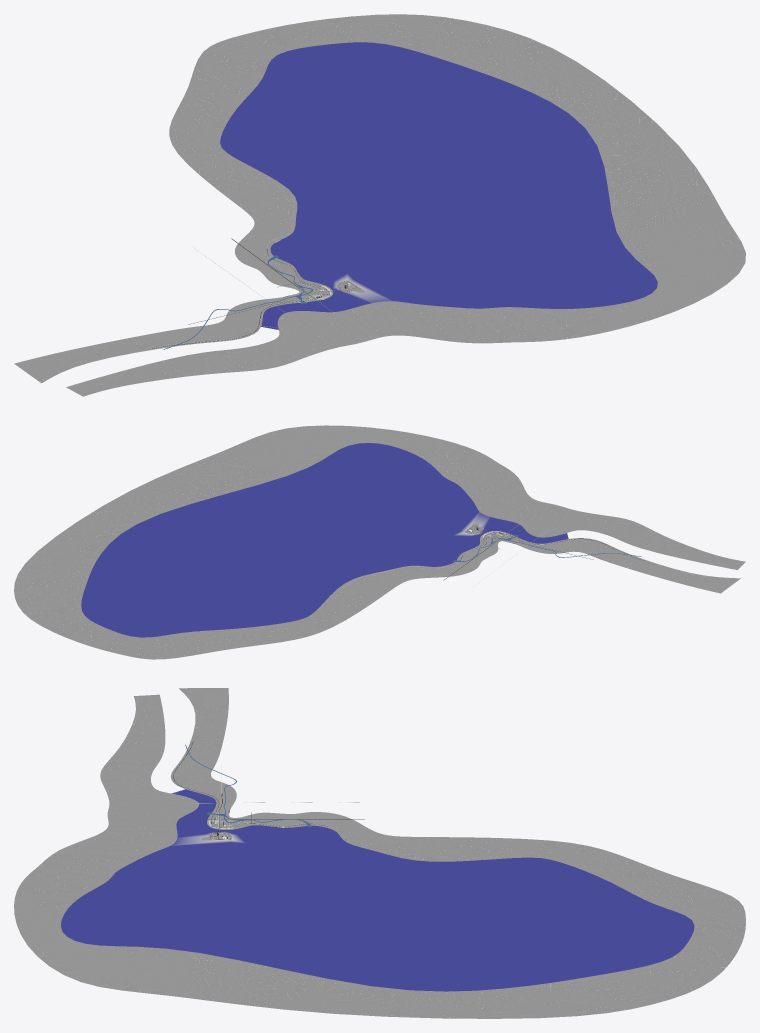
Rendered from mapnew.glb.
3 views of the same model, one above another, from view 1: azimuth 30°, elevation 25°; view 2: azimuth 150°, elevation 25°; view 3: azimuth 270°, elevation 25° (orthographic). The views are drawn at different scales.
Parts seen in each view (by area): view 1: river, MapGround; view 2: river, MapGround; view 3: river, MapGround.
Boxes of the visible parts, x1=… form: river: x1=220, y1=42, x2=657, y2=329; MapGround: x1=14, y1=14, x2=745, y2=396; river: x1=81, y1=443, x2=568, y2=637; MapGround: x1=14, y1=425, x2=745, y2=659; river: x1=61, y1=789, x2=694, y2=991; MapGround: x1=14, y1=688, x2=745, y2=1018.
Size of the model in its own units: 3012 by 25.27 by 2816.
Materials: 4 (2 with a texture image).
